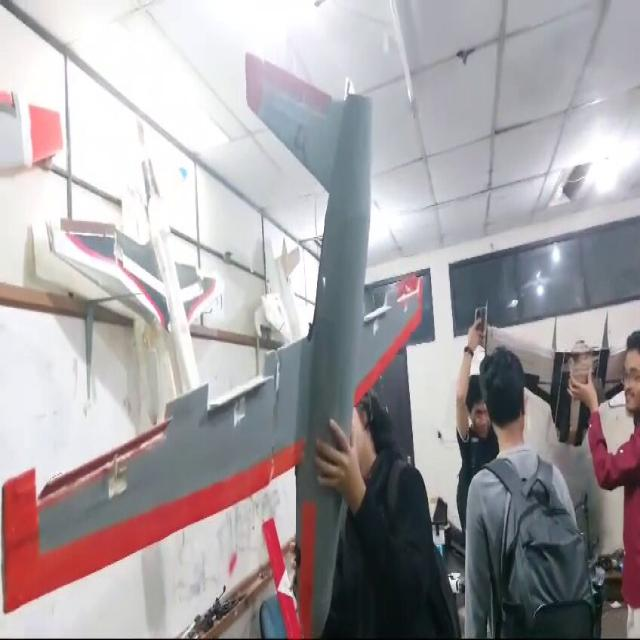plane: (1, 50, 432, 638)
